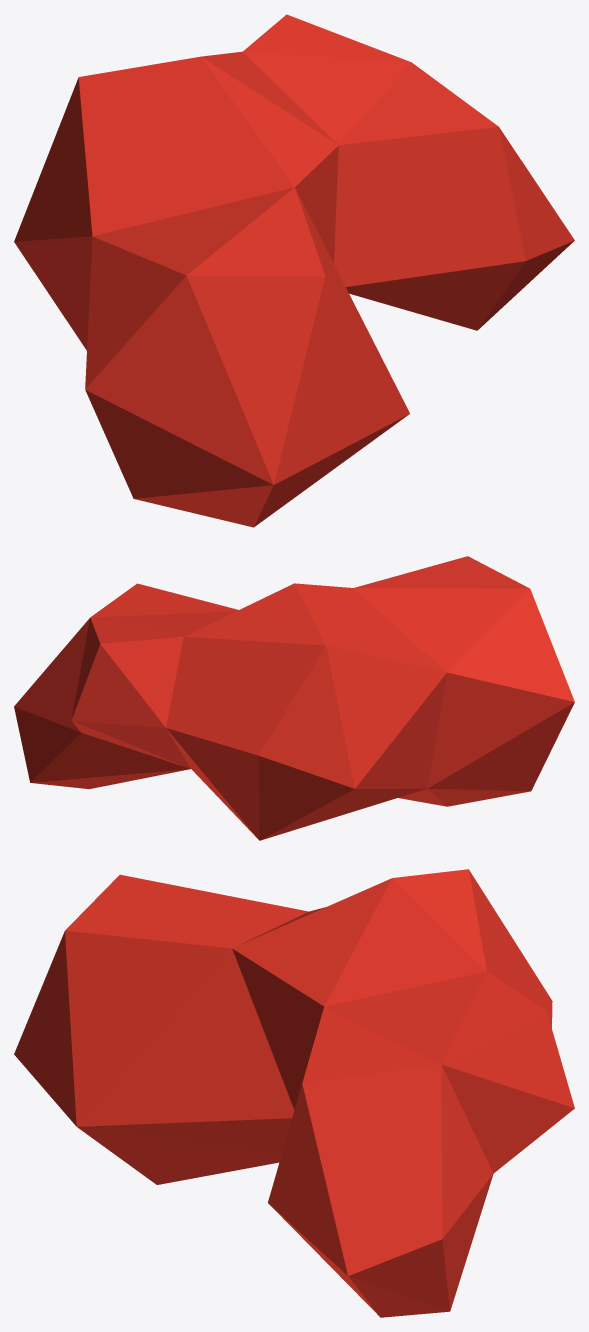
The model's file is lava_drop_element.fbx.
The picture shows the model from 3 angles, top to bottom: view 1: azimuth 30°, elevation 25°; view 2: azimuth 150°, elevation 25°; view 3: azimuth 270°, elevation 25°; orthographic projection. The views are drawn at different scales.
Visible parts, largest first — view 1: lava_drop_element; view 2: lava_drop_element; view 3: lava_drop_element.
Part boxes in pixels (x1=…): lava_drop_element: x1=14, y1=14, x2=574, y2=527; lava_drop_element: x1=14, y1=556, x2=574, y2=840; lava_drop_element: x1=14, y1=869, x2=574, y2=1317.
Size of the model in its own units: 161 by 94.44 by 141.
